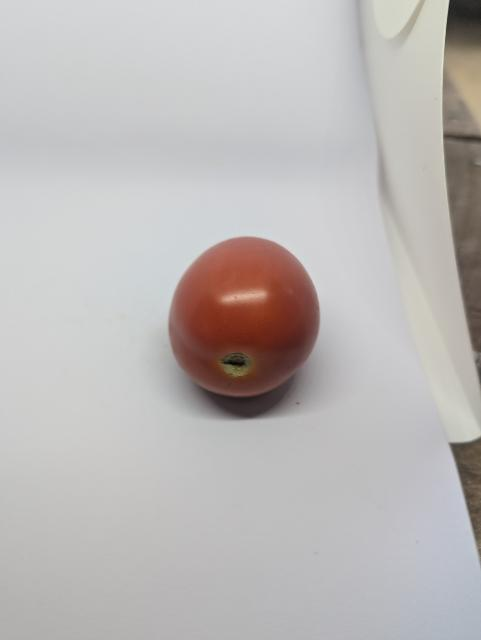red: (141, 210, 351, 443)
